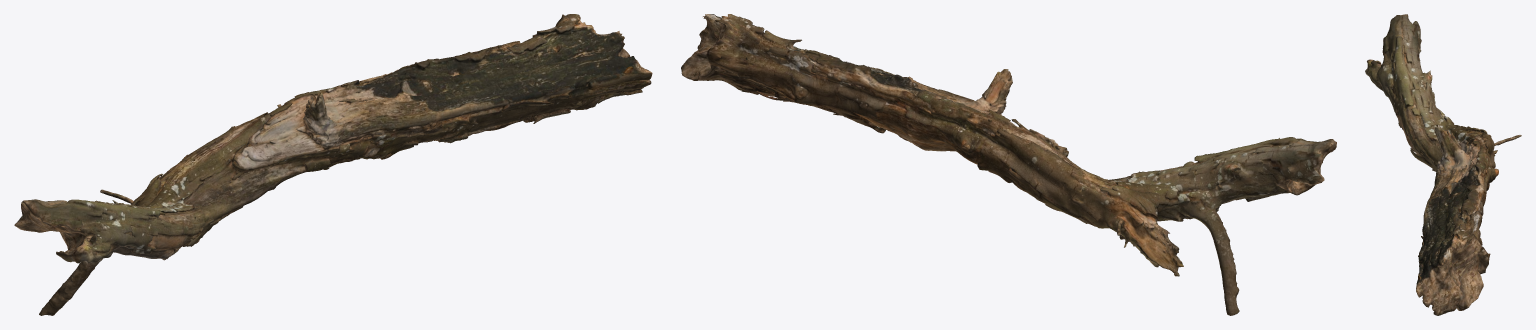
The model's file is Log_b.glb.
3 renders of one model, left to right at view 1: azimuth 30°, elevation 25°; view 2: azimuth 150°, elevation 25°; view 3: azimuth 270°, elevation 25°, orthographic. The views are drawn at different scales.
Parts seen in each view (by area): view 1: dead_tree_trunk_02; view 2: dead_tree_trunk_02; view 3: dead_tree_trunk_02.
Boxes of the visible parts, left/top/right/bottom form: dead_tree_trunk_02: left=14, top=14, right=652, bottom=315; dead_tree_trunk_02: left=681, top=14, right=1336, bottom=315; dead_tree_trunk_02: left=1365, top=14, right=1521, bottom=315.
Size of the model in its own units: 4.05 by 1.06 by 1.06.
Materials: 1 (1 with a texture image).
